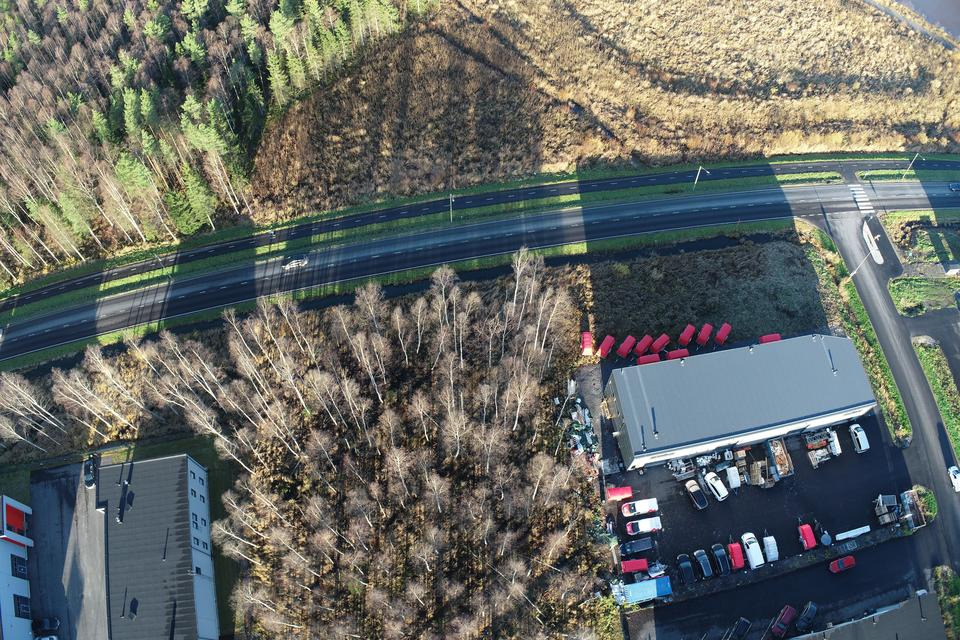intersection: (792, 134, 923, 291)
